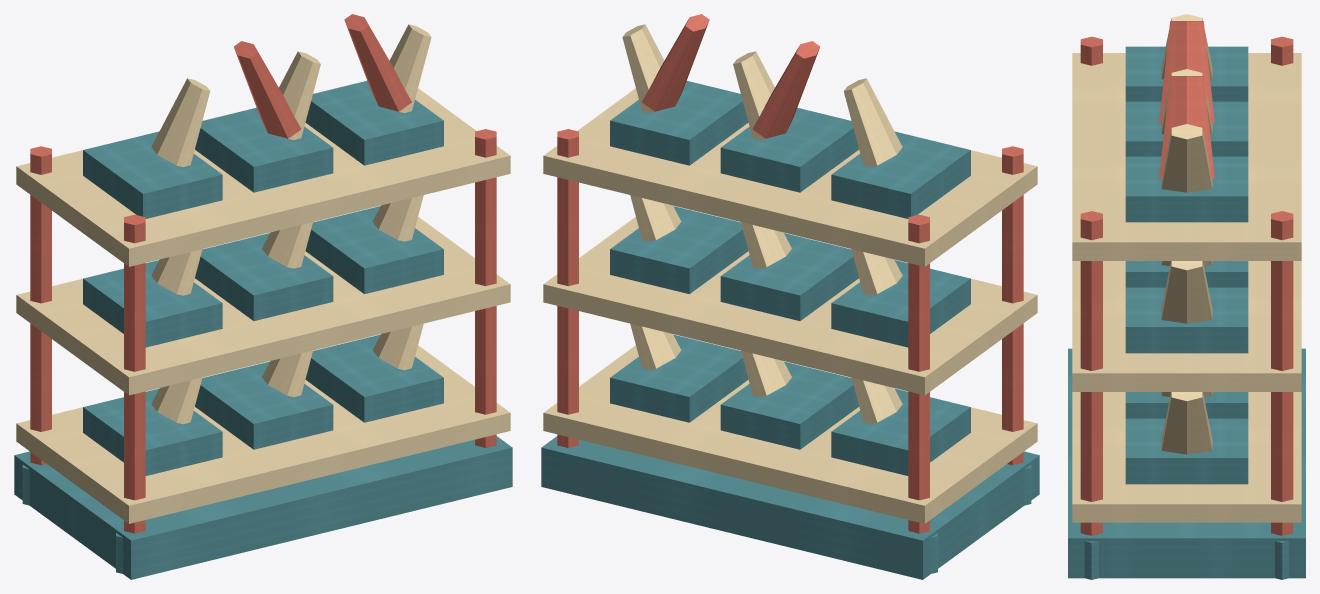
Rendered from atlas100-s076-a01.lod2.glb.
3 views of the same model, side by side, from view 1: azimuth 30°, elevation 25°; view 2: azimuth 150°, elevation 25°; view 3: azimuth 270°, elevation 25° (orthographic).
Visible parts, largest first — view 1: atlas100-s076-a01:part-000, atlas100-s076-a01:part-031, atlas100-s076-a01:part-011, atlas100-s076-a01:part-021, atlas100-s076-a01:part-032, atlas100-s076-a01:part-025, atlas100-s076-a01:part-015, atlas100-s076-a01:part-018, atlas100-s076-a01:part-028, atlas100-s076-a01:part-035, atlas100-s076-a01:part-038, atlas100-s076-a01:part-012 (+15 smaller); view 2: atlas100-s076-a01:part-000, atlas100-s076-a01:part-031, atlas100-s076-a01:part-011, atlas100-s076-a01:part-021, atlas100-s076-a01:part-032, atlas100-s076-a01:part-025, atlas100-s076-a01:part-015, atlas100-s076-a01:part-018, atlas100-s076-a01:part-028, atlas100-s076-a01:part-035, atlas100-s076-a01:part-038, atlas100-s076-a01:part-012 (+15 smaller); view 3: atlas100-s076-a01:part-031, atlas100-s076-a01:part-011, atlas100-s076-a01:part-021, atlas100-s076-a01:part-000, atlas100-s076-a01:part-018, atlas100-s076-a01:part-028, atlas100-s076-a01:part-038, atlas100-s076-a01:part-007, atlas100-s076-a01:part-009, atlas100-s076-a01:part-032, atlas100-s076-a01:part-035, atlas100-s076-a01:part-040 (+12 smaller).
Part boxes in pixels (x1=…): atlas100-s076-a01:part-000: x1=14, y1=436, x2=512, y2=579; atlas100-s076-a01:part-031: x1=16, y1=88, x2=510, y2=266; atlas100-s076-a01:part-011: x1=16, y1=345, x2=510, y2=523; atlas100-s076-a01:part-021: x1=16, y1=217, x2=510, y2=395; atlas100-s076-a01:part-032: x1=83, y1=131, x2=222, y2=218; atlas100-s076-a01:part-025: x1=195, y1=233, x2=333, y2=320; atlas100-s076-a01:part-015: x1=195, y1=361, x2=333, y2=449; atlas100-s076-a01:part-018: x1=305, y1=334, x2=443, y2=422; atlas100-s076-a01:part-028: x1=305, y1=206, x2=443, y2=294; atlas100-s076-a01:part-035: x1=195, y1=107, x2=333, y2=192; atlas100-s076-a01:part-038: x1=305, y1=81, x2=443, y2=165; atlas100-s076-a01:part-012: x1=83, y1=388, x2=222, y2=475; atlas100-s076-a01:part-000: x1=541, y1=436, x2=1039, y2=579; atlas100-s076-a01:part-031: x1=543, y1=88, x2=1037, y2=266; atlas100-s076-a01:part-011: x1=543, y1=345, x2=1037, y2=523; atlas100-s076-a01:part-021: x1=543, y1=217, x2=1037, y2=395; atlas100-s076-a01:part-032: x1=831, y1=131, x2=970, y2=218; atlas100-s076-a01:part-025: x1=720, y1=233, x2=858, y2=320; atlas100-s076-a01:part-015: x1=720, y1=361, x2=858, y2=449; atlas100-s076-a01:part-018: x1=610, y1=334, x2=748, y2=422; atlas100-s076-a01:part-028: x1=610, y1=206, x2=748, y2=294; atlas100-s076-a01:part-035: x1=720, y1=107, x2=858, y2=192; atlas100-s076-a01:part-038: x1=610, y1=81, x2=748, y2=165; atlas100-s076-a01:part-012: x1=831, y1=388, x2=970, y2=475; atlas100-s076-a01:part-031: x1=1072, y1=53, x2=1301, y2=260; atlas100-s076-a01:part-011: x1=1072, y1=392, x2=1301, y2=522; atlas100-s076-a01:part-021: x1=1072, y1=261, x2=1301, y2=391; atlas100-s076-a01:part-000: x1=1068, y1=348, x2=1305, y2=578; atlas100-s076-a01:part-018: x1=1125, y1=418, x2=1248, y2=484; atlas100-s076-a01:part-028: x1=1125, y1=287, x2=1248, y2=353; atlas100-s076-a01:part-038: x1=1125, y1=156, x2=1248, y2=222; atlas100-s076-a01:part-007: x1=1271, y1=211, x2=1293, y2=535; atlas100-s076-a01:part-009: x1=1080, y1=211, x2=1102, y2=535; atlas100-s076-a01:part-032: x1=1125, y1=46, x2=1248, y2=101; atlas100-s076-a01:part-035: x1=1125, y1=101, x2=1248, y2=156; atlas100-s076-a01:part-040: x1=1161, y1=124, x2=1212, y2=192.
Bounding box in the file's own units: 2.69 × 2.97 × 1.4.
3 materials, 3 textured.
